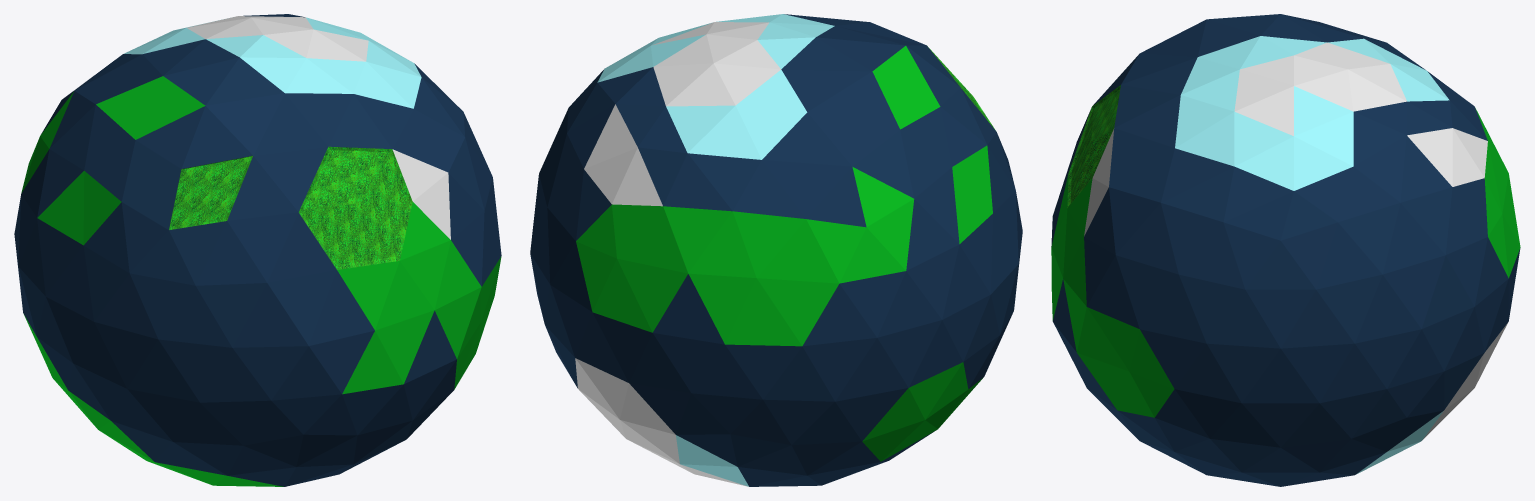
File: world.dae
3 views of the same model, side by side, from view 1: azimuth 30°, elevation 25°; view 2: azimuth 150°, elevation 25°; view 3: azimuth 270°, elevation 25° (orthographic). The views are drawn at different scales.
Parts seen in each view (by area): view 1: world-col; view 2: world-col; view 3: world-col.
Boxes of the visible parts, x1=… form: world-col: x1=14, y1=14, x2=501, y2=486; world-col: x1=530, y1=14, x2=1022, y2=486; world-col: x1=1051, y1=14, x2=1520, y2=486.
Size of the model in its own units: 6 by 5.87 by 5.73.
